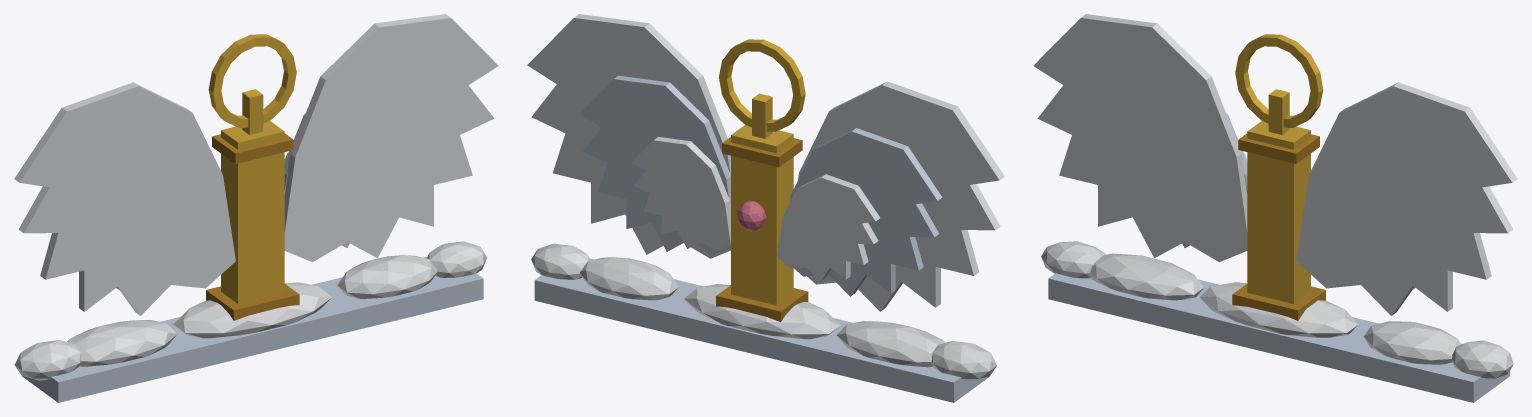
Rendered from Decor_CloudTemple_WingsBackdrop.fbx.
The picture shows the model from 3 angles, left to right: view 1: azimuth 30°, elevation 25°; view 2: azimuth 150°, elevation 25°; view 3: azimuth 330°, elevation 25°; orthographic projection.
Parts seen in each view (by area): view 1: WingsBackdrop_Body; view 2: WingsBackdrop_Body; view 3: WingsBackdrop_Body.
Boxes of the visible parts, left/top/right/bottom form: WingsBackdrop_Body: left=14, top=14, right=498, bottom=402; WingsBackdrop_Body: left=527, top=14, right=1004, bottom=402; WingsBackdrop_Body: left=1033, top=14, right=1517, bottom=402.
Bounding box in the file's own units: 24.3 × 14.6 × 3.4.
